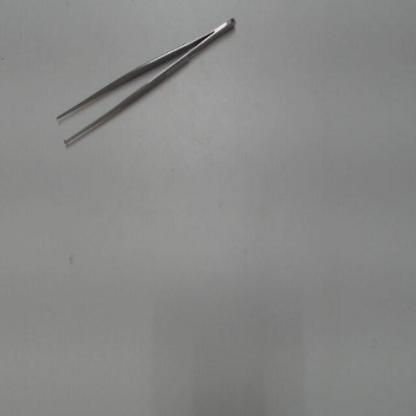Gillies Toothed Dissector: (46, 10, 242, 157)
